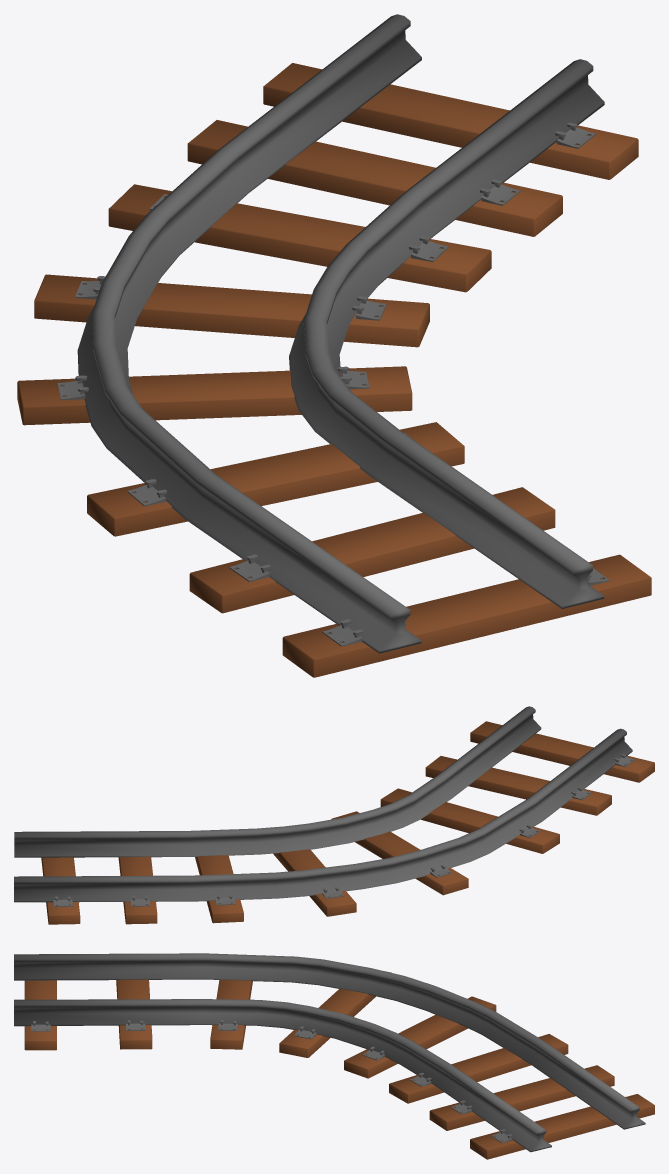
The model's file is TrilhoCurvo.fbx.
The picture shows the model from 3 angles, top to bottom: view 1: azimuth 30°, elevation 25°; view 2: azimuth 150°, elevation 25°; view 3: azimuth 270°, elevation 25°; orthographic projection. The views are drawn at different scales.
Visible parts, largest first — view 1: trilho_curvo; view 2: trilho_curvo; view 3: trilho_curvo.
Part boxes in pixels (<box>): trilho_curvo: <box>17,14,651,677</box>; trilho_curvo: <box>14,706,654,924</box>; trilho_curvo: <box>14,953,654,1159</box>.
Size of the model in its own units: 211 by 14.85 by 290.
